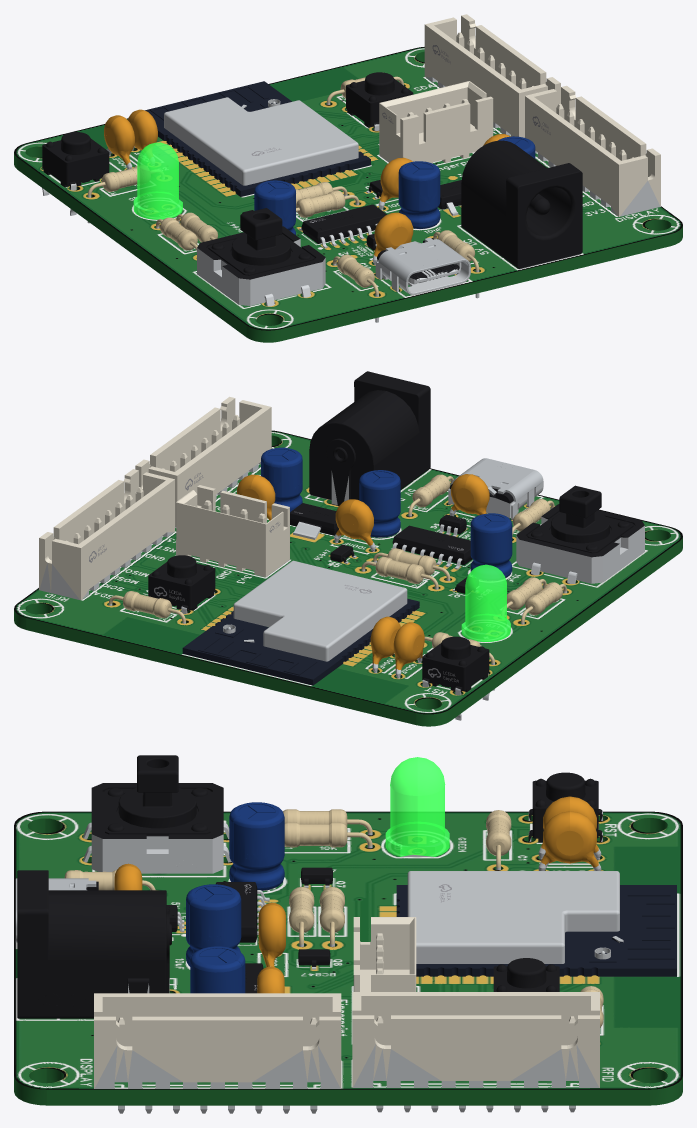
Rendered from board.glb.
3 renders of one model, top to bottom at view 1: azimuth 30°, elevation 25°; view 2: azimuth 150°, elevation 25°; view 3: azimuth 270°, elevation 25°, orthographic. The views are drawn at different scales.
Parts seen in each view (by area): view 1: Board-mesh, U9-mesh, 5V-mesh, CN3-mesh, KEY1-mesh, CN2-mesh, CN1-mesh, USB1-mesh (×2), LED8-mesh, SW2-mesh, C17-mesh, SW1-mesh (+14 smaller); view 2: Board-mesh, U9-mesh, 5V-mesh, CN2-mesh, KEY1-mesh, CN3-mesh, CN1-mesh, LED8-mesh, SW2-mesh, USB1-mesh (×2), SW1-mesh, C19-mesh (+16 smaller); view 3: Board-mesh, U9-mesh, CN3-mesh, CN2-mesh, 5V-mesh, KEY1-mesh, LED8-mesh, CN1-mesh, C19-mesh, C17-mesh, C2-mesh, C14-mesh (+16 smaller).
Boxes of the visible parts, bbox=[...] form: Board-mesh: bbox=[14, 47, 682, 342]; U9-mesh: bbox=[145, 81, 370, 196]; 5V-mesh: bbox=[461, 140, 582, 269]; CN3-mesh: bbox=[525, 85, 660, 216]; KEY1-mesh: bbox=[197, 208, 325, 306]; CN2-mesh: bbox=[424, 14, 560, 137]; CN1-mesh: bbox=[379, 81, 493, 163]; USB1-mesh (×2): bbox=[375, 237, 470, 295]; LED8-mesh: bbox=[133, 142, 182, 219]; SW2-mesh: bbox=[42, 132, 109, 215]; C17-mesh: bbox=[398, 161, 440, 229]; SW1-mesh: bbox=[346, 72, 413, 130]; Board-mesh: bbox=[14, 430, 682, 726]; U9-mesh: bbox=[182, 560, 419, 685]; 5V-mesh: bbox=[309, 371, 430, 505]; CN2-mesh: bbox=[39, 469, 174, 600]; KEY1-mesh: bbox=[516, 485, 644, 583]; CN3-mesh: bbox=[135, 396, 271, 527]; CN1-mesh: bbox=[176, 485, 289, 577]; LED8-mesh: bbox=[461, 564, 510, 641]; SW2-mesh: bbox=[422, 636, 489, 720]; USB1-mesh (×2): bbox=[448, 458, 543, 519]; SW1-mesh: bbox=[148, 555, 215, 613]; C19-mesh: bbox=[470, 513, 512, 579]; Board-mesh: bbox=[14, 811, 682, 1105]; U9-mesh: bbox=[396, 871, 676, 976]; CN3-mesh: bbox=[94, 993, 341, 1113]; CN2-mesh: bbox=[352, 992, 599, 1112]; 5V-mesh: bbox=[17, 870, 171, 1018]; KEY1-mesh: bbox=[83, 755, 231, 873]; LED8-mesh: bbox=[385, 757, 449, 856]; CN1-mesh: bbox=[353, 917, 416, 991]; C19-mesh: bbox=[229, 802, 284, 890]; C17-mesh: bbox=[186, 884, 241, 966]; C2-mesh: bbox=[538, 811, 601, 870]; C14-mesh: bbox=[190, 946, 245, 993].
Bounding box in the file's own units: 0.0598 × 0.015 × 0.0608.
14 materials, 2 textured.
